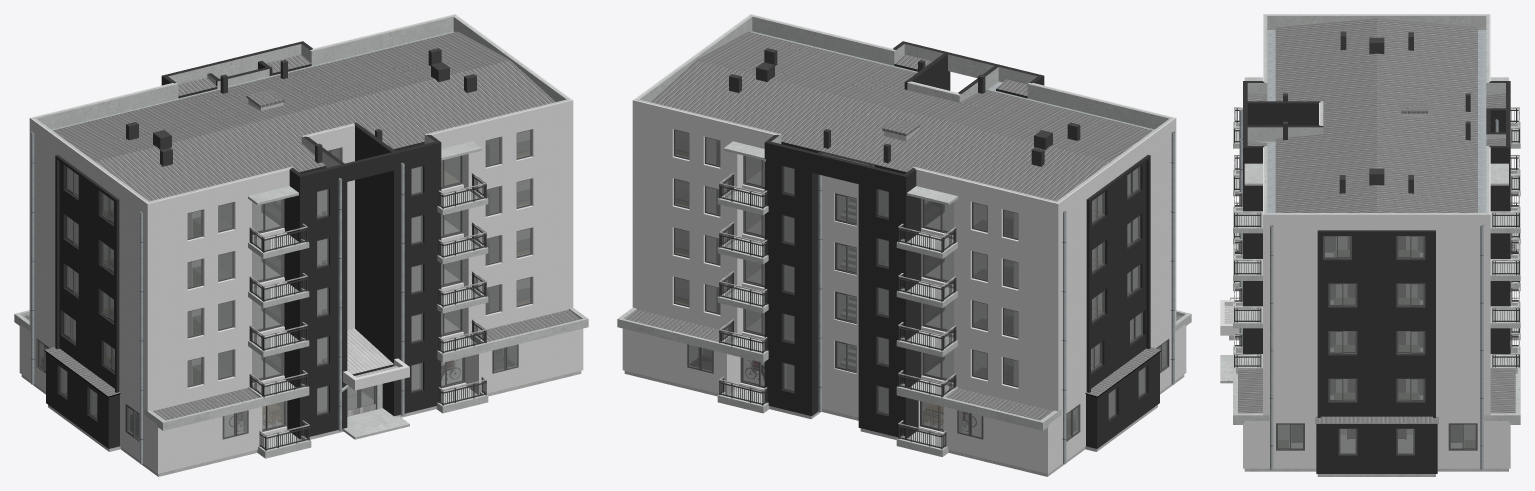
The model's file is LIBERTAD - EDIFICIO C.fbx.
The picture shows the model from 3 angles, left to right: view 1: azimuth 30°, elevation 25°; view 2: azimuth 150°, elevation 25°; view 3: azimuth 270°, elevation 25°; orthographic projection. The views are drawn at different scales.
Visible parts, largest first — view 1: Estuco - Blanco Rugoso, Pintura- Gris Oscuro, Cubierta - Hoja Corrugada gris oscuro, Hormigón - 02, Vidrio - Claro Rápido, Pintura- Titanio Blanco, Pintura- Gris Claro, Estuco - Blanco Fino, Metal - Zinc, Baldosas - Blanco 30x30 27, Metal - Acero Inoxidable, Cubierta - Hoja Corrugada Mate (+1 smaller); view 2: Estuco - Blanco Rugoso, Pintura- Gris Oscuro, Cubierta - Hoja Corrugada gris oscuro, Hormigón - 02, Vidrio - Claro Rápido, Pintura- Titanio Blanco, Pintura- Gris Claro, Estuco - Blanco Fino, Metal - Zinc, Baldosas - Blanco 30x30 27, Metal - Acero Inoxidable, Pintura- Blanco Satinado; view 3: Cubierta - Hoja Corrugada gris oscuro, Pintura- Gris Oscuro, Estuco - Blanco Rugoso, Hormigón - 02, Vidrio - Claro Rápido, Metal - Zinc, Pintura- Titanio Blanco, Pintura- Gris Claro, Estuco - Blanco Fino, Metal - Acero Inoxidable, Pintura- Blanco Satinado.
Boxes of the visible parts, x1,y1,x2,y2 form: Estuco - Blanco Rugoso: [19, 14, 583, 473]; Pintura- Gris Oscuro: [46, 41, 515, 448]; Cubierta - Hoja Corrugada gris oscuro: [23, 31, 580, 420]; Hormigón - 02: [14, 15, 588, 476]; Vidrio - Claro Rápido: [39, 130, 530, 438]; Pintura- Titanio Blanco: [36, 129, 531, 441]; Pintura- Gris Claro: [126, 48, 486, 450]; Estuco - Blanco Fino: [64, 130, 529, 422]; Metal - Zinc: [31, 31, 454, 464]; Baldosas - Blanco 30x30 27: [224, 202, 461, 436]; Metal - Acero Inoxidable: [232, 173, 486, 436]; Cubierta - Hoja Corrugada Mate: [347, 328, 398, 377]; Estuco - Blanco Rugoso: [622, 14, 1186, 473]; Pintura- Gris Oscuro: [690, 41, 1159, 448]; Cubierta - Hoja Corrugada gris oscuro: [625, 31, 1182, 420]; Hormigón - 02: [617, 15, 1191, 476]; Vidrio - Claro Rápido: [675, 130, 1166, 438]; Pintura- Titanio Blanco: [674, 129, 1169, 441]; Pintura- Gris Claro: [719, 48, 1080, 449]; Estuco - Blanco Fino: [676, 130, 1141, 422]; Metal - Zinc: [751, 31, 1174, 464]; Baldosas - Blanco 30x30 27: [744, 161, 981, 436]; Metal - Acero Inoxidable: [719, 173, 973, 434]; Pintura- Blanco Satinado: [716, 141, 1075, 436]; Cubierta - Hoja Corrugada gris oscuro: [1238, 18, 1515, 422]; Pintura- Gris Oscuro: [1243, 81, 1510, 473]; Estuco - Blanco Rugoso: [1220, 14, 1510, 468]; Hormigón - 02: [1220, 14, 1520, 476]; Vidrio - Claro Rápido: [1278, 236, 1475, 453]; Metal - Zinc: [1239, 30, 1498, 469]; Pintura- Titanio Blanco: [1276, 236, 1510, 454]; Pintura- Gris Claro: [1234, 31, 1519, 367]; Estuco - Blanco Fino: [1278, 236, 1475, 442]; Metal - Acero Inoxidable: [1230, 107, 1519, 354]; Pintura- Blanco Satinado: [1347, 236, 1406, 437].
Size of the model in its own units: 24.14 by 14.1 by 14.44.
32 materials, 16 textured.
